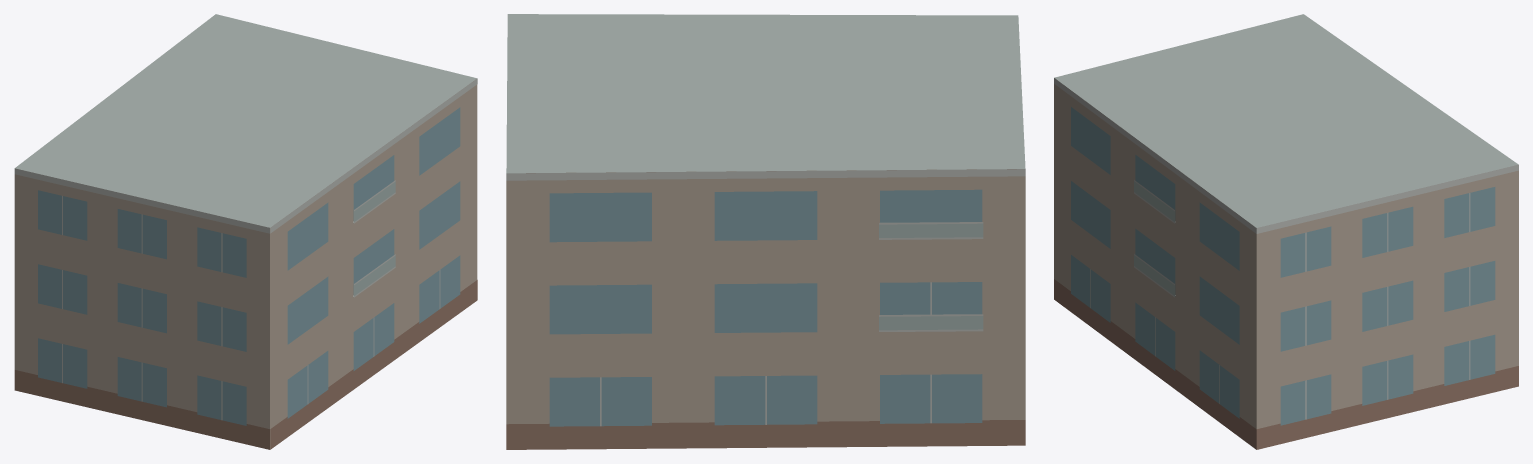
File: survey-upis-32843831.glb
3 renders of one model, left to right at view 1: azimuth 30°, elevation 25°; view 2: azimuth 150°, elevation 25°; view 3: azimuth 270°, elevation 25°, orthographic. The views are drawn at different scales.
Visible parts, largest first — view 1: survey-upis-32843831.tmp; view 2: survey-upis-32843831.tmp; view 3: survey-upis-32843831.tmp.
Part boxes in pixels (bbox=[...]): survey-upis-32843831.tmp: bbox=[14, 14, 477, 449]; survey-upis-32843831.tmp: bbox=[506, 14, 1025, 449]; survey-upis-32843831.tmp: bbox=[1054, 14, 1518, 449].
Bounding box in the file's own units: 18.95 × 9.15 × 17.39.
